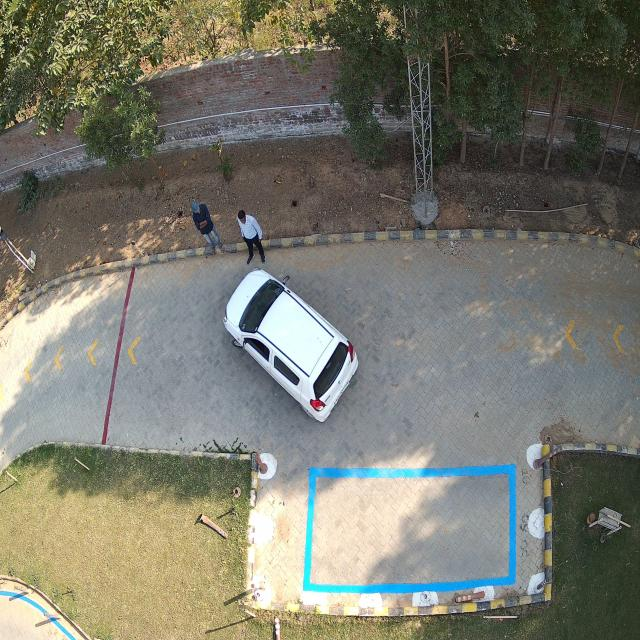car: (224, 268, 358, 423)
